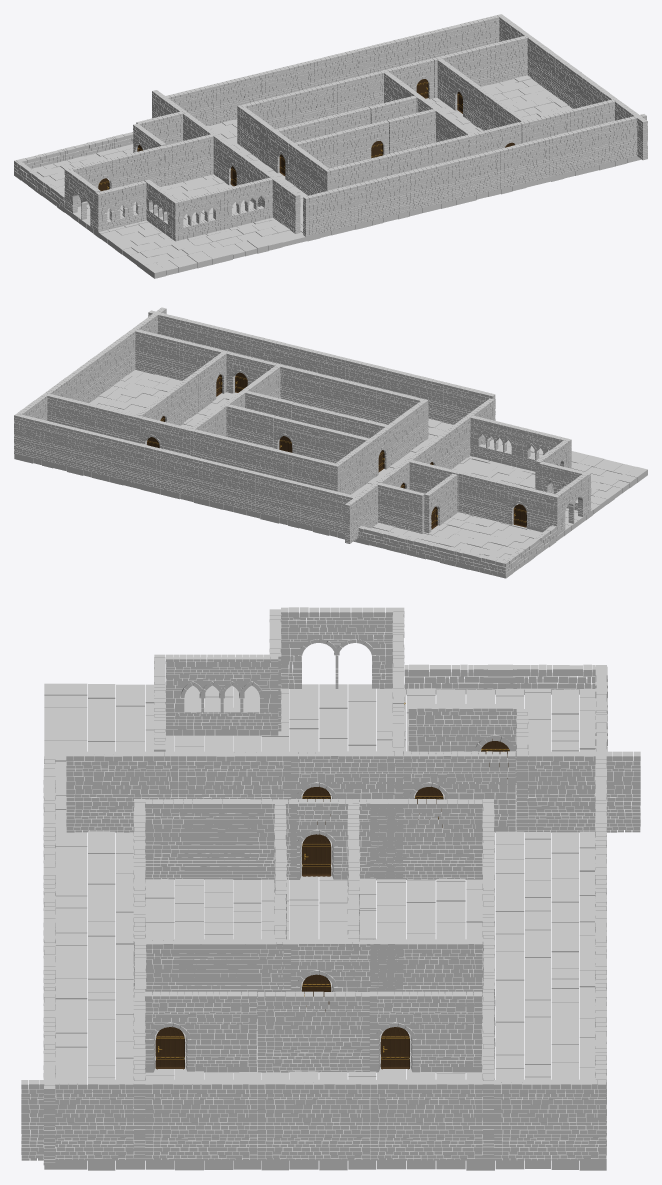
Rendered from Level_1.fbx.
3 renders of one model, top to bottom at view 1: azimuth 30°, elevation 25°; view 2: azimuth 150°, elevation 25°; view 3: azimuth 270°, elevation 25°, orthographic. The views are drawn at different scales.
Visible parts, largest first — view 1: floor_001.001, floor_001.002, wall_001.020, wall_001.024, wall_001.021, wall_window_001.001, wall_001.025, wall_001.004, wall_001.023, wall_001.022, wall_window_002.003, wall_window_002.004 (+56 smaller); view 2: floor_001.001, floor_001.002, wall_001.026, wall_001.009, wall_001.010, wall_001.001, wall_001.011, wall_window_002.004, wall_001.007, wall_001.027, wall_001.041, wall_001.035 (+55 smaller); view 3: floor_001.001, floor_001.002, wall_001.038, wall_001.036, wall_001.039, wall_001.037, wall_001.043, wall_001.031, wall_001.055, wall_001.040, wall_window_002.002, wall_door_001.011 (+24 smaller).
Part boxes in pixels (x1,y1,x2,y2): floor_001.001: (14, 119, 397, 278); floor_001.002: (398, 75, 641, 219); wall_001.020: (303, 185, 354, 236); wall_001.024: (498, 137, 549, 189); wall_001.021: (352, 173, 403, 224); wall_window_001.001: (95, 181, 146, 231); wall_001.025: (547, 125, 598, 177); wall_001.004: (163, 134, 213, 185); wall_001.023: (449, 149, 500, 201); wall_001.022: (401, 161, 451, 213); wall_window_002.003: (172, 189, 223, 241); wall_window_002.004: (221, 177, 272, 229); floor_001.001: (260, 418, 647, 578); floor_001.002: (14, 370, 260, 518); wall_001.026: (107, 436, 159, 488); wall_001.009: (255, 472, 306, 524); wall_001.010: (206, 460, 257, 512); wall_001.001: (459, 471, 510, 523); wall_001.011: (156, 448, 208, 499); wall_window_002.004: (470, 415, 521, 467); wall_001.007: (373, 481, 424, 533); wall_001.027: (58, 425, 109, 476); wall_001.041: (19, 414, 70, 466); wall_001.035: (131, 328, 182, 380); floor_001.001: (44, 683, 596, 922); floor_001.002: (44, 921, 606, 1170); wall_001.038: (370, 1079, 482, 1160); wall_001.036: (145, 1079, 257, 1160); wall_001.039: (494, 1079, 606, 1160); wall_001.037: (257, 1079, 369, 1160); wall_001.043: (257, 991, 369, 1072); wall_001.031: (370, 799, 482, 879); wall_001.055: (528, 751, 640, 832); wall_001.040: (21, 1079, 133, 1160); wall_window_002.002: (166, 654, 278, 735); wall_door_001.011: (369, 991, 481, 1072).
Size of the model in its own units: 202 by 17.21 by 110.
